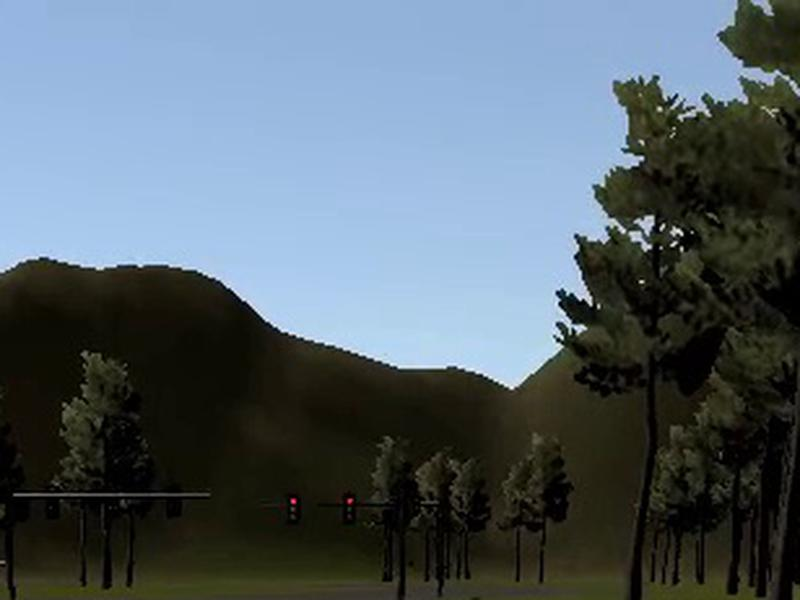Red: (287, 493, 305, 525), (342, 490, 357, 525)
